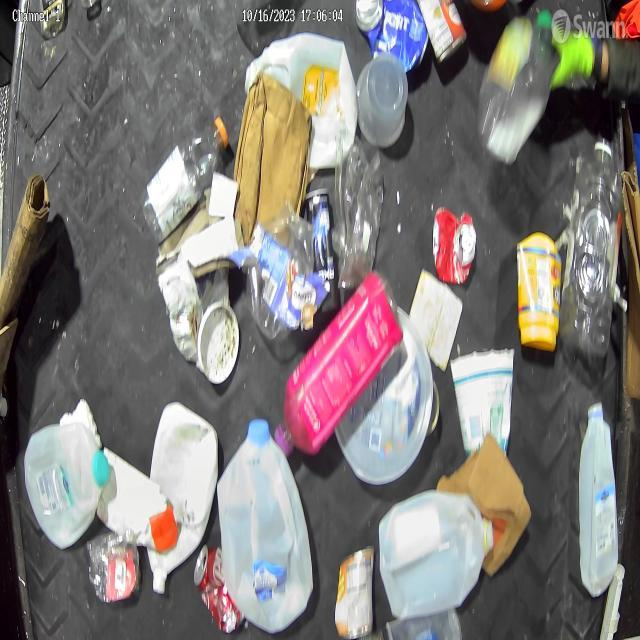can: (193, 544, 241, 632), (429, 201, 476, 283)
milk_jug: (218, 414, 314, 618), (378, 491, 494, 612), (148, 401, 214, 593), (26, 417, 104, 557), (577, 392, 618, 594)
non_white_jug: (281, 278, 402, 466)
plastic_bottle: (569, 130, 621, 353), (144, 113, 230, 244)
